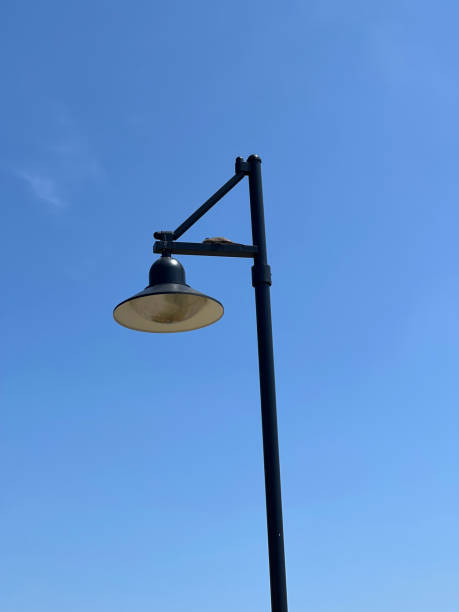light_pole: (232, 163, 298, 612)
